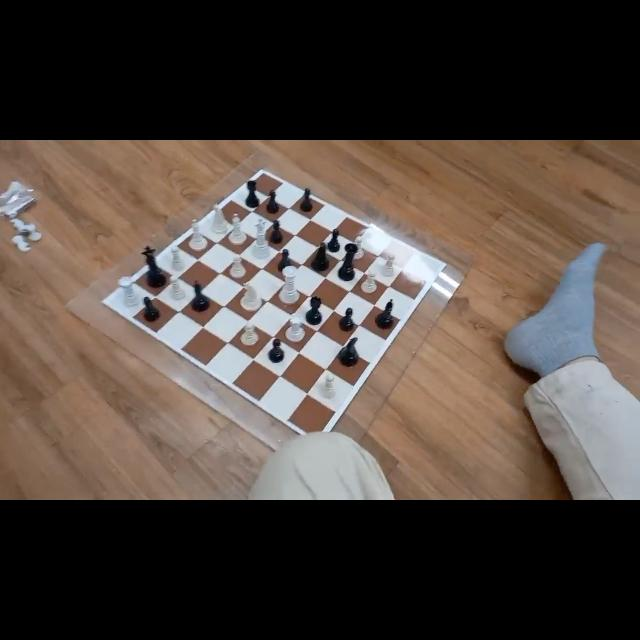chessboard-corner: (314, 437, 324, 447), (258, 166, 264, 174), (443, 262, 451, 268), (99, 300, 105, 306)
